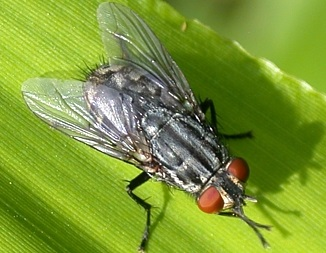fly: (19, 1, 281, 251)
